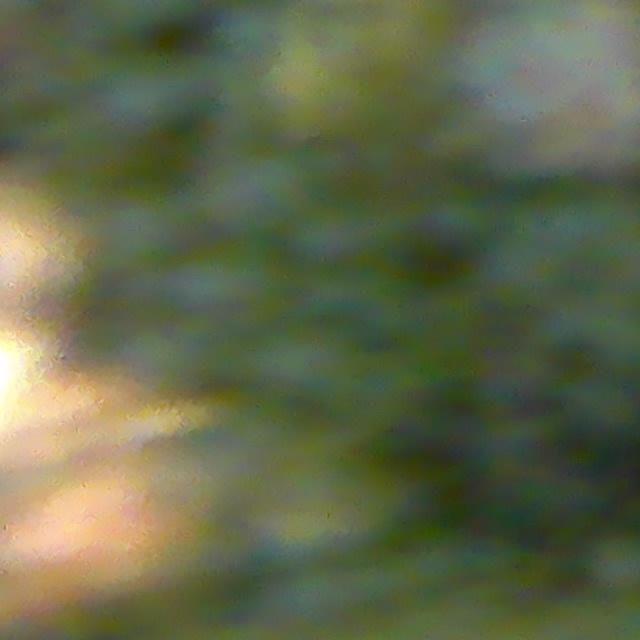SeaGrape: (204, 143, 310, 238)
